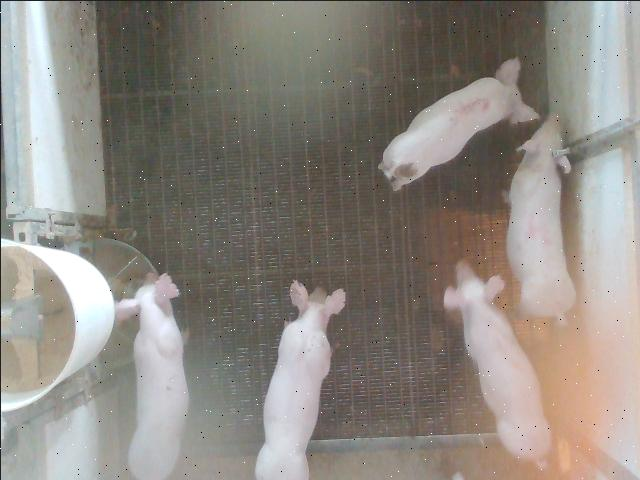pig-4: (505, 112, 575, 324)
pig-5: (378, 58, 538, 189)
